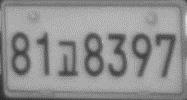1: (34, 31, 51, 77)
3: (106, 32, 129, 78)
7: (153, 31, 176, 78)
8: (82, 31, 104, 77), (9, 31, 31, 76)
9: (131, 33, 152, 78)
고: (55, 39, 80, 78)
